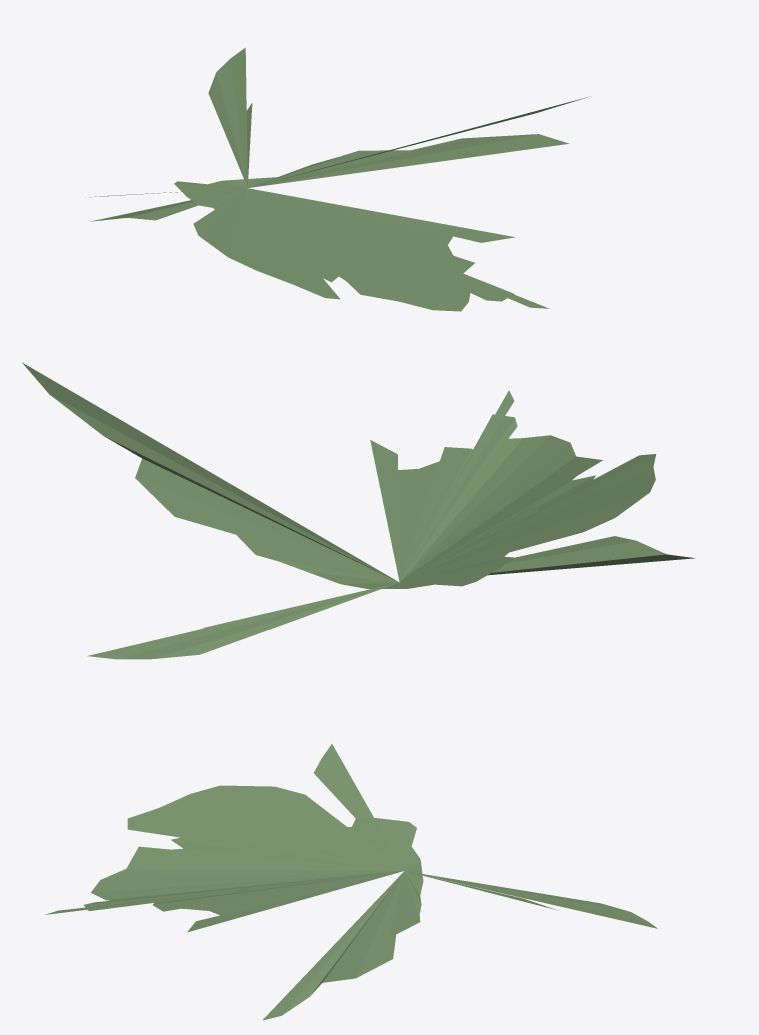
Rendered from c_1670_17813_parks.glb.
3 renders of one model, top to bottom at view 1: azimuth 30°, elevation 25°; view 2: azimuth 150°, elevation 25°; view 3: azimuth 270°, elevation 25°, orthographic. The views are drawn at different scales.
Visible parts, largest first — view 1: geometry_0; view 2: geometry_0; view 3: geometry_0.
Part boxes in pixels (x1,y1,x2,y2): geometry_0: [85, 47, 589, 311]; geometry_0: [22, 362, 694, 659]; geometry_0: [45, 744, 657, 1020].
Bounding box in the file's own units: 505 × 38.42 × 539.
